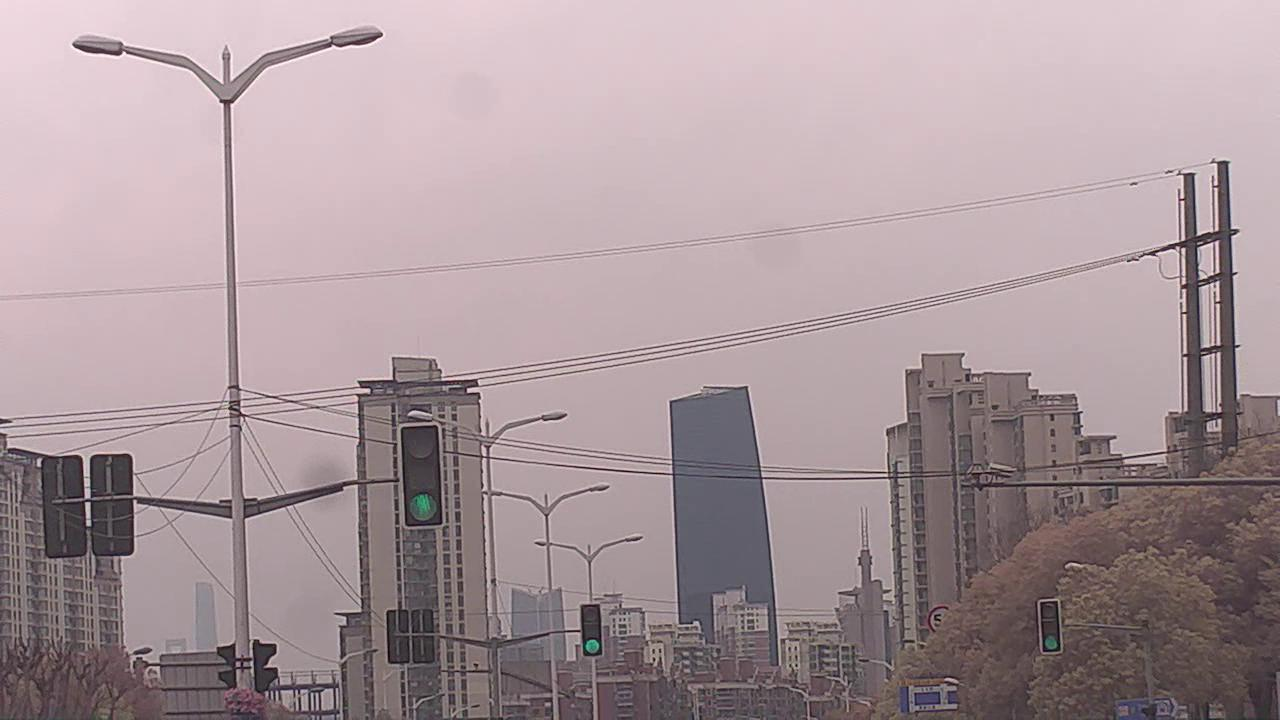traffic_light: (398, 423, 444, 529), (582, 602, 605, 657), (1041, 601, 1062, 656)
